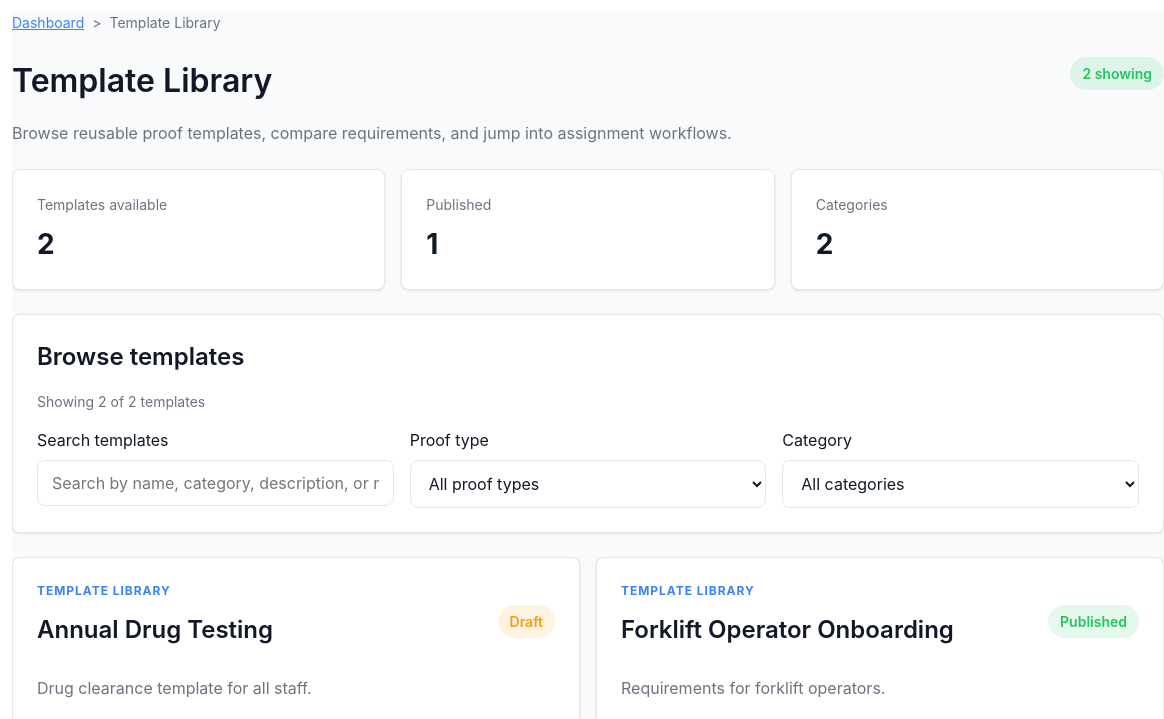
Scenario: TemplateLibraryPage › filters templates by search query
This screenshot has width=1164, height=719.
Check: the heading "Forklift Operator Onboarding" is shown, box left=621, top=612, right=954, bottom=648
Type "Drug" into the field with placeholder "Search by name, category, description, or requirement".
click(215, 483); type("Drug")  # box left=37, top=460, right=394, bottom=506
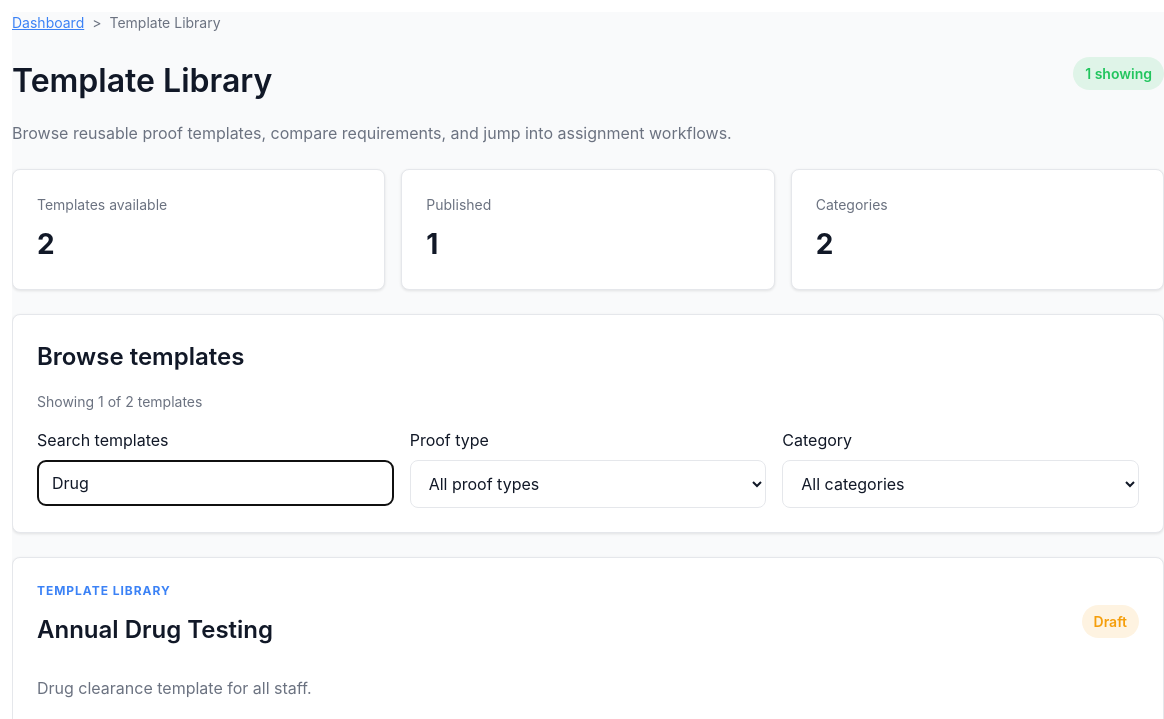
Check: the heading "Annual Drug Testing" is shown, box left=37, top=612, right=273, bottom=648
Check: the link "Forklift Operator Onboarding" is gone
